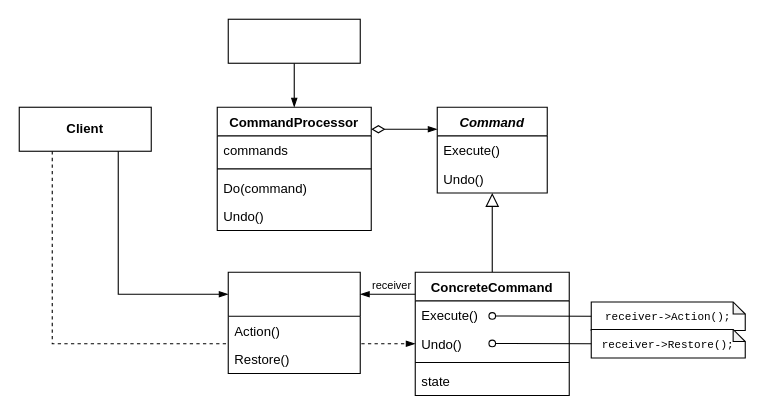
Image size: 765x418. Some labels were removed from this diagram. The shapes that lost their labels are listed below. From the top down, each one's centre as x and y in pixels, then its label:
At (293,40): "Invoker (POSA1: Controller)".
At (293,322): "Receiver (POSA1: Supplier)".
